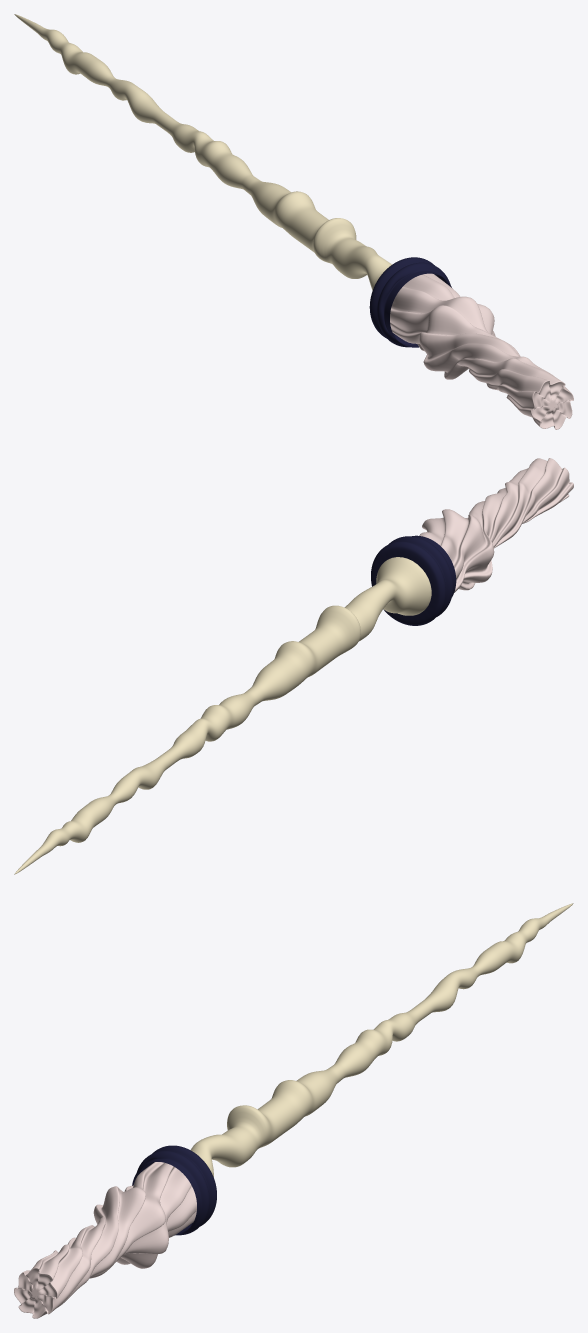
Rendered from WAND NI HARRY POTTER.fbx.
The picture shows the model from 3 angles, top to bottom: view 1: azimuth 30°, elevation 25°; view 2: azimuth 150°, elevation 25°; view 3: azimuth 330°, elevation 25°; orthographic projection.
Visible parts, largest first — view 1: wand ni potter; view 2: wand ni potter; view 3: wand ni potter.
Boxes of the visible parts, x1,y1,x2,y2 form: wand ni potter: [14, 14, 573, 429]; wand ni potter: [14, 458, 573, 874]; wand ni potter: [14, 903, 573, 1318].
Size of the model in its own units: 91.96 by 96.28 by 1150.
